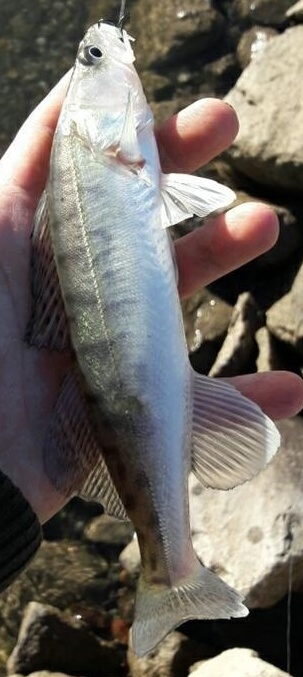Sander lucioperca: (20, 20, 283, 657)
